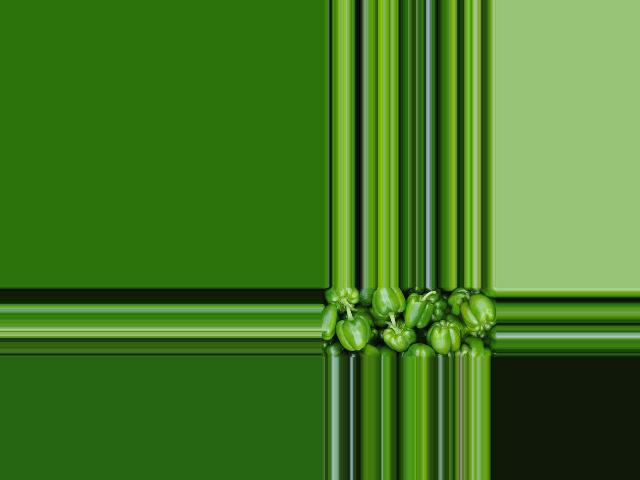bell_pepper: (323, 289, 496, 357)
